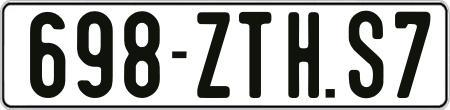6: (28, 12, 65, 102)
7: (395, 11, 435, 101)
8: (124, 11, 166, 100)
9: (74, 9, 112, 102)
H: (288, 9, 321, 98)
S: (346, 8, 386, 97)
T: (236, 9, 269, 101)
Z: (197, 12, 235, 99)
